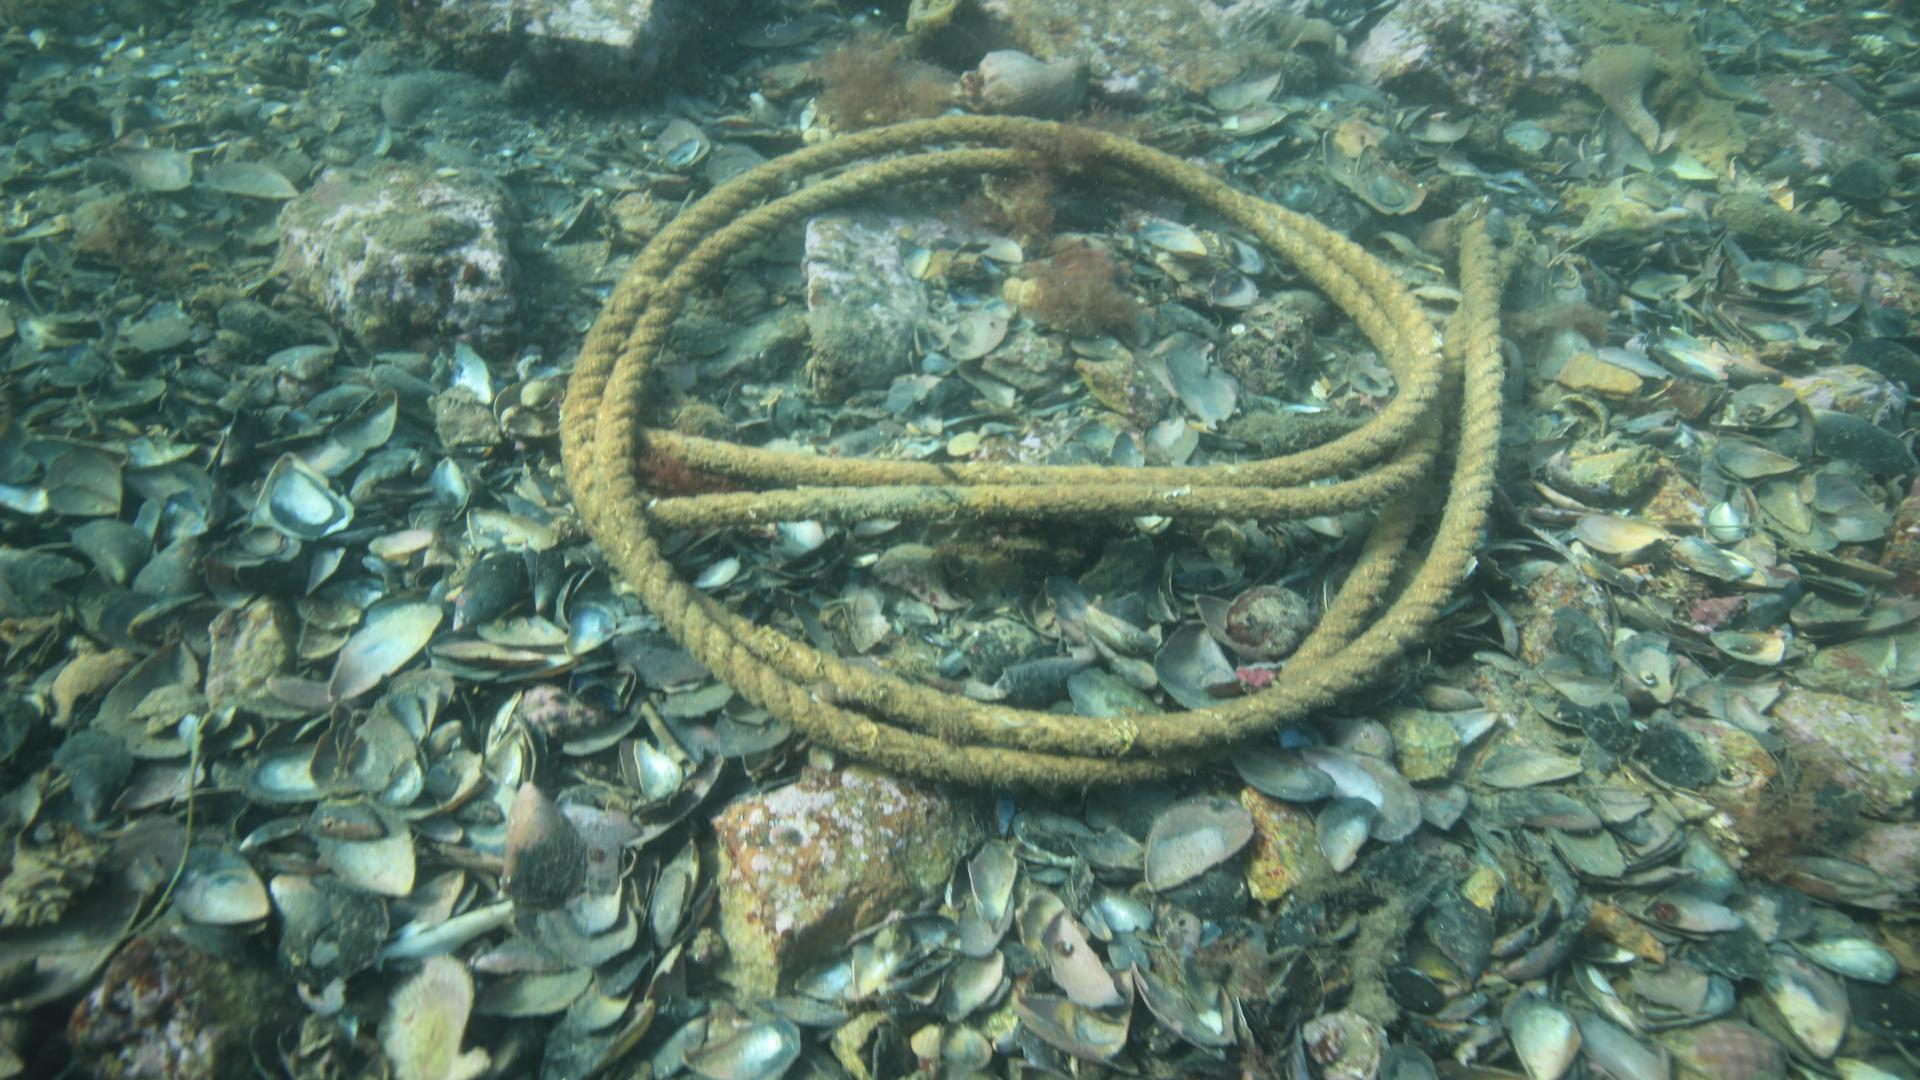bundle of ropes: (553, 109, 1542, 804)
